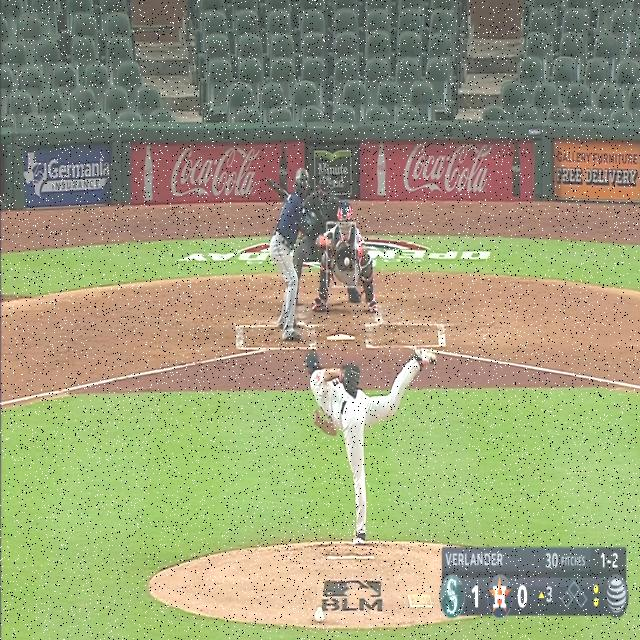baseball: (344, 257, 350, 267)
